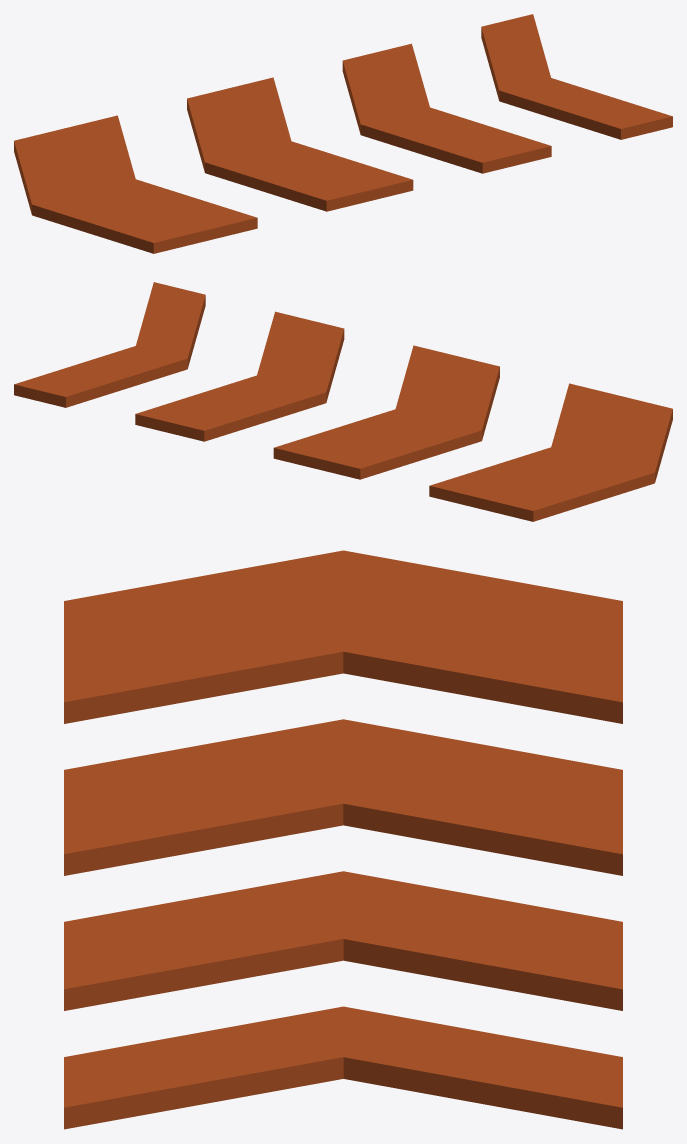
File: indicator_design.glb
3 views of the same model, one above another, from view 1: azimuth 30°, elevation 25°; view 2: azimuth 150°, elevation 25°; view 3: azimuth 270°, elevation 25° (orthographic). The views are drawn at different scales.
Parts seen in each view (by area): view 1: indicator.001; view 2: indicator.001; view 3: indicator.001.
Boxes of the visible parts, bbox=[...] form: indicator.001: bbox=[14, 14, 672, 253]; indicator.001: bbox=[14, 282, 672, 521]; indicator.001: bbox=[64, 550, 622, 1129].
Size of the model in its own units: 165 by 3 by 70.
